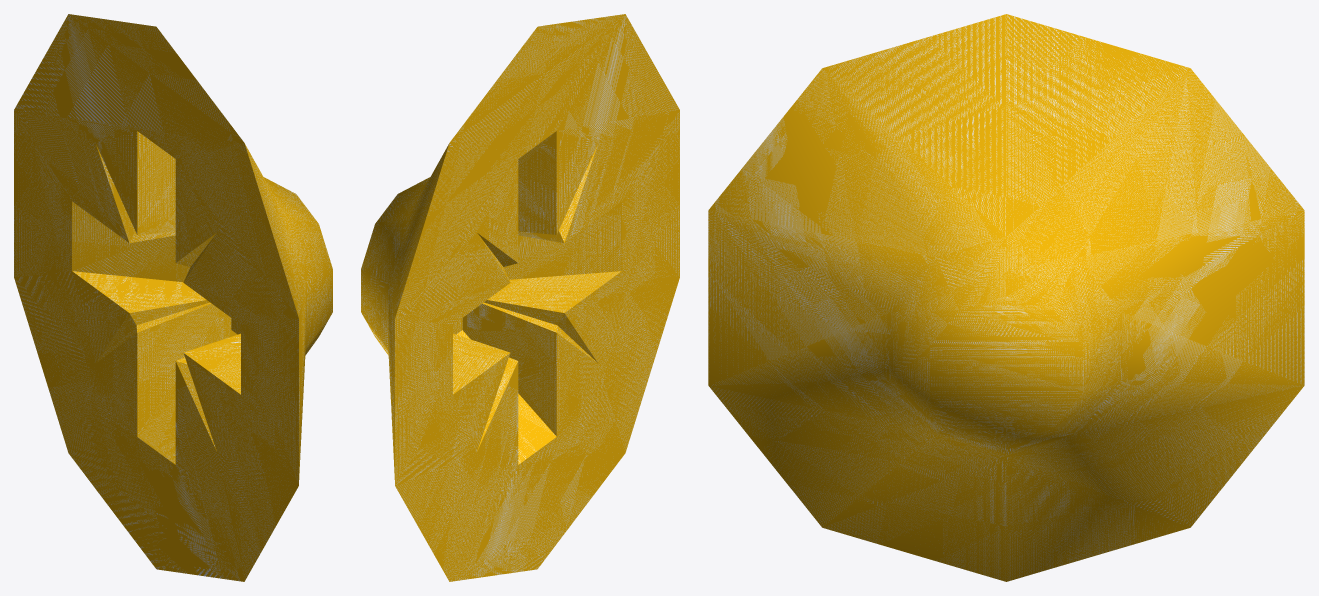
The model's file is original-168.obj.
3 views of the same model, side by side, from view 1: azimuth 30°, elevation 25°; view 2: azimuth 150°, elevation 25°; view 3: azimuth 270°, elevation 25° (orthographic). The views are drawn at different scales.
Visible parts, largest first — view 1: Group108/mesh181/mesh181-geometry#mesh181-geometry; view 2: Group108/mesh181/mesh181-geometry#mesh181-geometry; view 3: Group108/mesh181/mesh181-geometry#mesh181-geometry.
Part boxes in pixels (x1,y1,x2,y2): Group108/mesh181/mesh181-geometry#mesh181-geometry: (14, 14, 332, 581); Group108/mesh181/mesh181-geometry#mesh181-geometry: (361, 14, 679, 581); Group108/mesh181/mesh181-geometry#mesh181-geometry: (708, 14, 1304, 581).
Size of the model in its own units: 0.0053 by 0.0197 by 0.0187.
